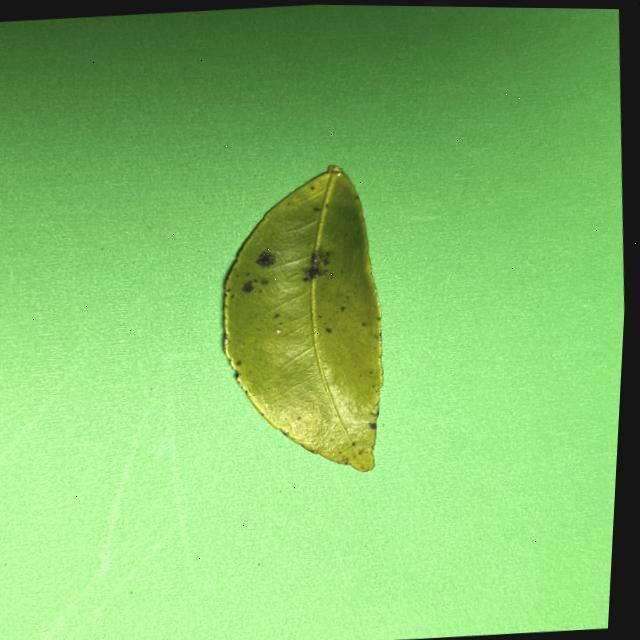sooty_mold: (224, 165, 382, 471)
